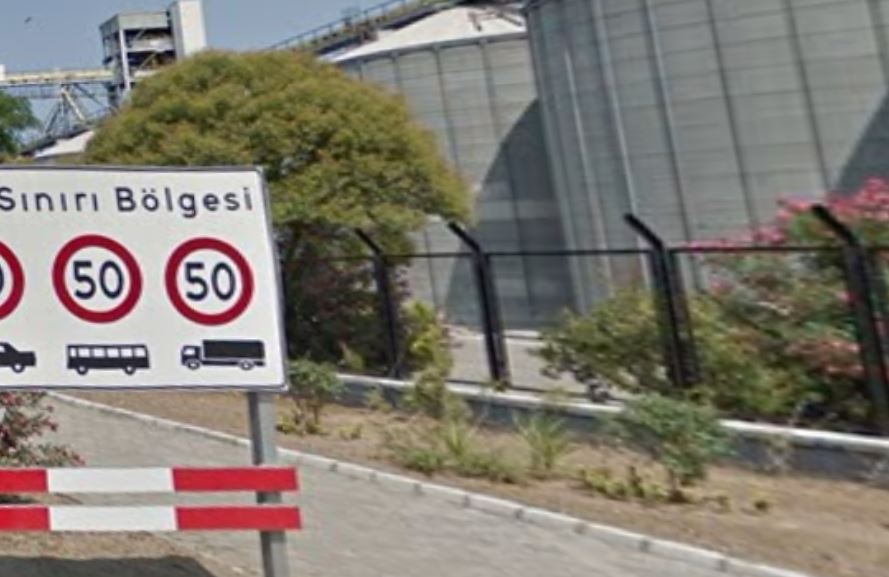50 Km Hiz Siniri: (162, 231, 259, 327), (49, 230, 143, 321)
